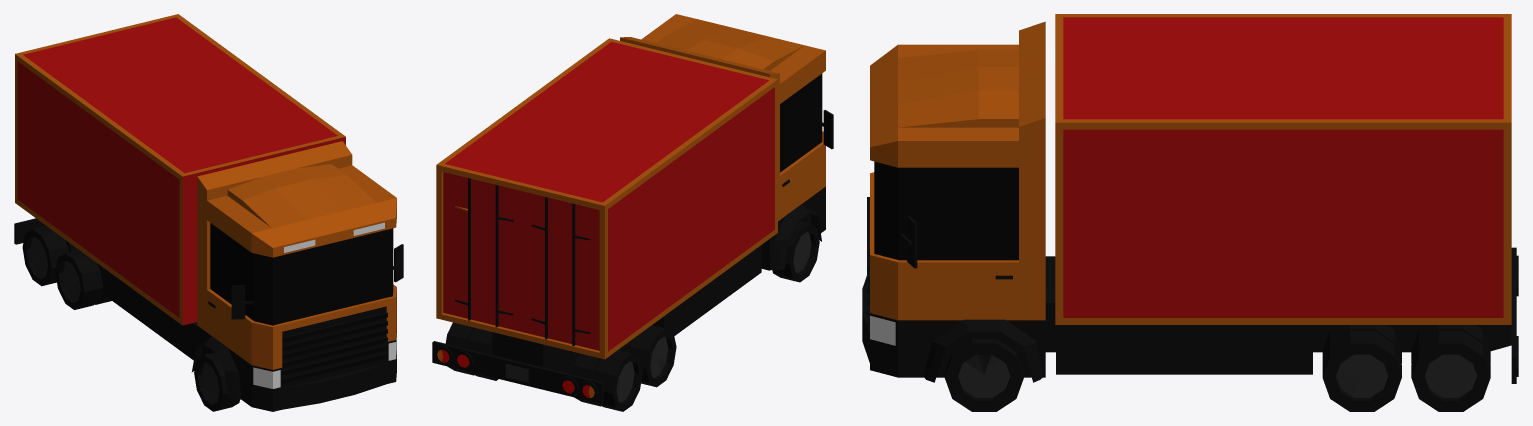
File: SM_truck01.FBX
3 views of the same model, side by side, from view 1: azimuth 30°, elevation 25°; view 2: azimuth 150°, elevation 25°; view 3: azimuth 270°, elevation 25° (orthographic). The views are drawn at different scales.
Parts seen in each view (by area): view 1: truck01; view 2: truck01; view 3: truck01.
Part boxes in pixels (bbox=[...]): truck01: bbox=[14, 14, 403, 411]; truck01: bbox=[432, 14, 833, 411]; truck01: bbox=[862, 14, 1518, 411].
Size of the model in its own units: 272 by 322 by 662.
